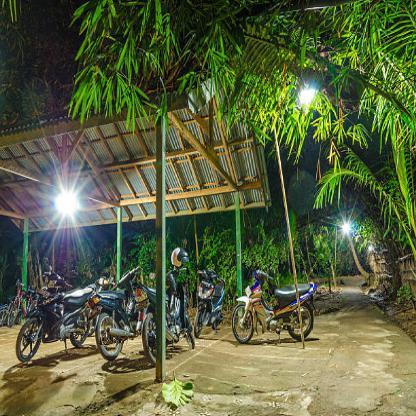Motorcycle: (236, 267, 317, 346)
